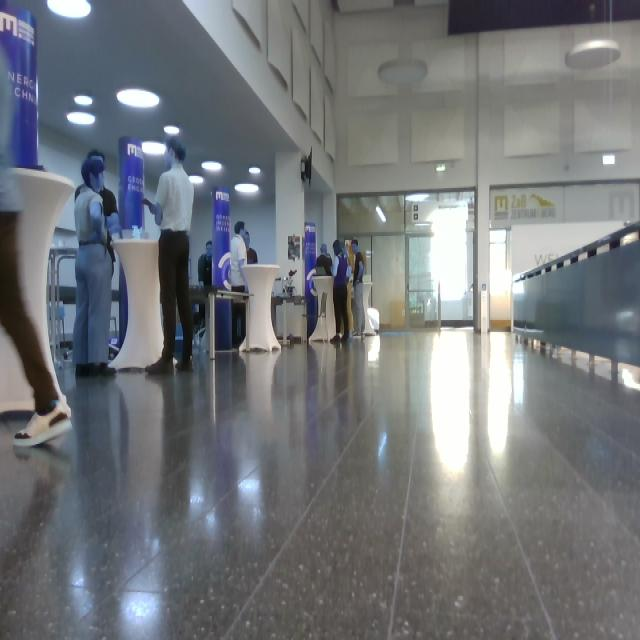door: (407, 234, 439, 329), (489, 228, 512, 330)
light bulb: (565, 39, 621, 71), (378, 58, 428, 85), (117, 88, 160, 109), (47, 1, 92, 20), (67, 112, 96, 126), (142, 141, 167, 156), (235, 182, 259, 193), (74, 95, 93, 107), (202, 161, 222, 172), (376, 205, 387, 224), (164, 125, 180, 134), (189, 176, 204, 185), (249, 167, 261, 175)
person: (141, 135, 196, 375), (73, 155, 117, 379), (230, 221, 250, 344), (332, 240, 352, 341), (351, 240, 366, 337)
staircase: (511, 220, 640, 380)
tiled floor: (1, 325, 639, 638)
